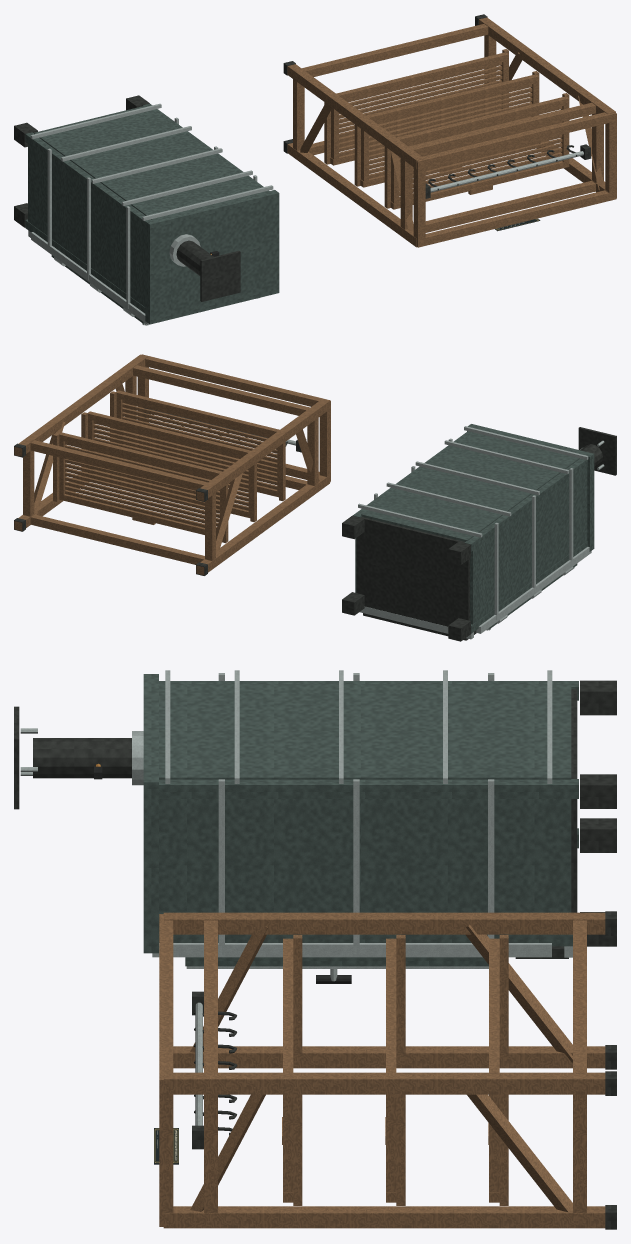
The model's file is PROJECT_Z_MR26_Smoker_And_Drying_Rack_KIT.glb.
3 views of the same model, one above another, from view 1: azimuth 30°, elevation 25°; view 2: azimuth 150°, elevation 25°; view 3: azimuth 270°, elevation 25° (orthographic). The views are drawn at different scales.
Parts seen in each view (by area): view 1: SMOKEHOUSE_MR26_R_Top_Cover, SMOKEHOUSE_MR26_R_Back_Shell, SMOKEHOUSE_MR26_R_Left_Shell, DRYING_RACK_MR26_R_Horizontal_Long_Beam_z2.08_y+0.34, DRYING_RACK_MR26_R_Horizontal_Long_Beam_z2.08_y-0.34, DRYING_RACK_MR26_R_Timber_Post_-0.872_+0.340, DRYING_RACK_MR26_R_Horizontal_Long_Beam_z0.17_y+0.34, DRYING_RACK_MR26_R_Horizontal_Long_Beam_z1.87_y+0.34, DRYING_RACK_MR26_R_Horizontal_Long_Beam_z1.87_y-0.34, DRYING_RACK_MR26_R_Timber_Post_+0.872_+0.340, DRYING_RACK_MR26_R_Timber_Post_-0.872_-0.340, SMOKEHOUSE_MR26_R_Flue_Rain_Cap (+40 smaller); view 2: SMOKEHOUSE_MR26_R_Back_Shell, SMOKEHOUSE_MR26_R_Base_Pan, SMOKEHOUSE_MR26_R_Left_Shell, DRYING_RACK_MR26_R_Timber_Post_-0.872_+0.340, DRYING_RACK_MR26_R_Horizontal_Long_Beam_z2.08_y+0.34, DRYING_RACK_MR26_R_Horizontal_Long_Beam_z0.17_y+0.34, DRYING_RACK_MR26_R_Horizontal_Long_Beam_z1.87_y+0.34, DRYING_RACK_MR26_R_Horizontal_Long_Beam_z0.17_y-0.34, DRYING_RACK_MR26_R_Timber_Post_-0.872_-0.340, DRYING_RACK_MR26_R_Timber_Post_+0.872_+0.340, SMOKEHOUSE_MR26_R_Upright_-1_+1, DRYING_RACK_MR26_R_Shelf3_Frame_Long_+0.272 (+50 smaller); view 3: SMOKEHOUSE_MR26_R_Right_Shell, SMOKEHOUSE_MR26_R_Back_Shell, DRYING_RACK_MR26_R_Timber_Post_+0.872_+0.340, DRYING_RACK_MR26_R_Timber_Post_+0.872_-0.340, DRYING_RACK_MR26_R_Timber_Post_-0.872_+0.340, SMOKEHOUSE_MR26_R_Upright_+1_+1, DRYING_RACK_MR26_R_Timber_Post_-0.872_-0.340, SMOKEHOUSE_MR26_R_Top_Cover, SMOKEHOUSE_MR26_R_Front_Jamb_+0.566, SMOKEHOUSE_MR26_R_Flue_Pipe, SMOKEHOUSE_MR26_R_Upright_+1_-1, DRYING_RACK_MR26_R_Diagonal_Brace_Lower_x+0.86 (+31 smaller).
Part boxes in pixels (x1,y1,x2,y2): SMOKEHOUSE_MR26_R_Top_Cover: (145,190,279,324); SMOKEHOUSE_MR26_R_Back_Shell: (34,105,263,219); SMOKEHOUSE_MR26_R_Left_Shell: (28,144,145,306); DRYING_RACK_MR26_R_Horizontal_Long_Beam_z2.08_y+0.34: (417,112,616,169); DRYING_RACK_MR26_R_Horizontal_Long_Beam_z2.08_y-0.34: (417,190,616,247); DRYING_RACK_MR26_R_Timber_Post_-0.872_+0.340: (287,64,424,168); DRYING_RACK_MR26_R_Horizontal_Long_Beam_z0.17_y+0.34: (302,24,488,76); DRYING_RACK_MR26_R_Horizontal_Long_Beam_z1.87_y+0.34: (409,102,595,155); DRYING_RACK_MR26_R_Horizontal_Long_Beam_z1.87_y-0.34: (425,180,595,232); DRYING_RACK_MR26_R_Timber_Post_+0.872_+0.340: (479,17,615,113); DRYING_RACK_MR26_R_Timber_Post_-0.872_-0.340: (287,143,416,247); SMOKEHOUSE_MR26_R_Flue_Rain_Cap: (200,251,240,301); SMOKEHOUSE_MR26_R_Back_Shell: (361,432,579,541); SMOKEHOUSE_MR26_R_Base_Pan: (356,517,469,626); SMOKEHOUSE_MR26_R_Left_Shell: (470,467,587,624); DRYING_RACK_MR26_R_Timber_Post_-0.872_+0.340: (196,399,329,501); DRYING_RACK_MR26_R_Horizontal_Long_Beam_z2.08_y+0.34: (141,354,330,406); DRYING_RACK_MR26_R_Horizontal_Long_Beam_z0.17_y+0.34: (30,440,207,490); DRYING_RACK_MR26_R_Horizontal_Long_Beam_z1.87_y+0.34: (133,365,309,415); DRYING_RACK_MR26_R_Horizontal_Long_Beam_z0.17_y-0.34: (30,514,204,564); DRYING_RACK_MR26_R_Timber_Post_-0.872_-0.340: (196,475,329,575); DRYING_RACK_MR26_R_Timber_Post_+0.872_+0.340: (14,354,147,456); SMOKEHOUSE_MR26_R_Upright_-1_+1: (464,458,587,551); DRYING_RACK_MR26_R_Shelf3_Frame_Long_+0.272: (116,390,279,435); SMOKEHOUSE_MR26_R_Right_Shell: (159,799,571,931); SMOKEHOUSE_MR26_R_Back_Shell: (159,684,571,779); DRYING_RACK_MR26_R_Timber_Post_+0.872_+0.340: (163,1072,605,1094); DRYING_RACK_MR26_R_Timber_Post_+0.872_-0.340: (163,1206,605,1228); DRYING_RACK_MR26_R_Timber_Post_-0.872_+0.340: (163,912,605,934); SMOKEHOUSE_MR26_R_Upright_+1_+1: (159,779,578,798); DRYING_RACK_MR26_R_Timber_Post_-0.872_-0.340: (173,1046,605,1068); SMOKEHOUSE_MR26_R_Top_Cover: (143,674,158,953); SMOKEHOUSE_MR26_R_Front_Jamb_+0.566: (152,943,551,957); SMOKEHOUSE_MR26_R_Flue_Pipe: (33,738,131,778); SMOKEHOUSE_MR26_R_Upright_+1_-1: (159,932,572,946); DRYING_RACK_MR26_R_Diagonal_Brace_Lower_x+0.86: (467,1094,572,1212).
Bounding box in the file's own units: 4.3 × 1.13 × 2.78.
7 materials, 7 textured.
